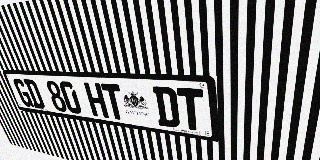0: (58, 81, 83, 114)
8: (44, 80, 68, 112)
D: (152, 86, 180, 128), (23, 79, 46, 109)
G: (12, 78, 34, 108)
H: (83, 82, 109, 118)
T: (177, 88, 205, 132), (101, 83, 127, 121)
